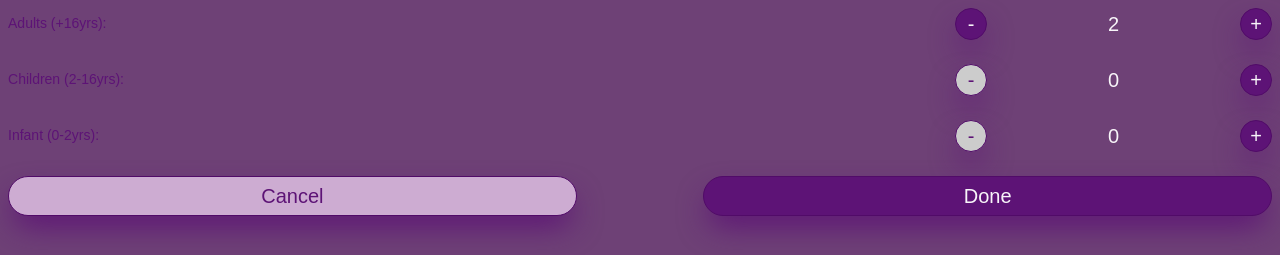
Test case: PeopleDropdown Component › decreases adult count but not below min
Click the button "-" in the row of "Adults (+16yrs):".
click(971, 24)  # box left=955, top=8, right=987, bottom=40
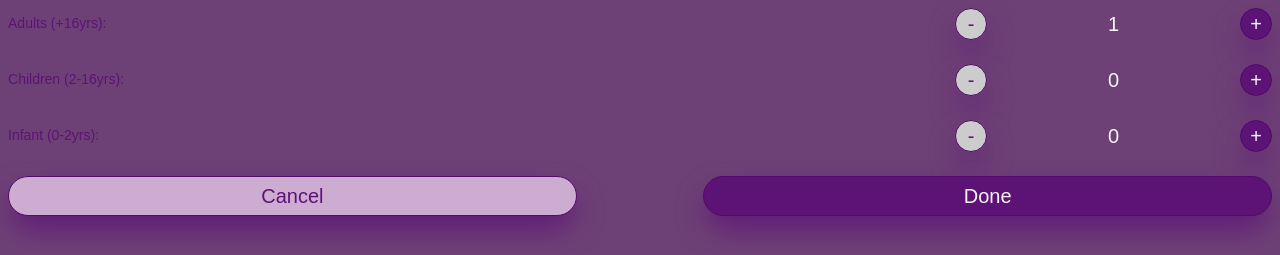
Result: the text "1" is shown at left=1108, top=13, right=1119, bottom=35
